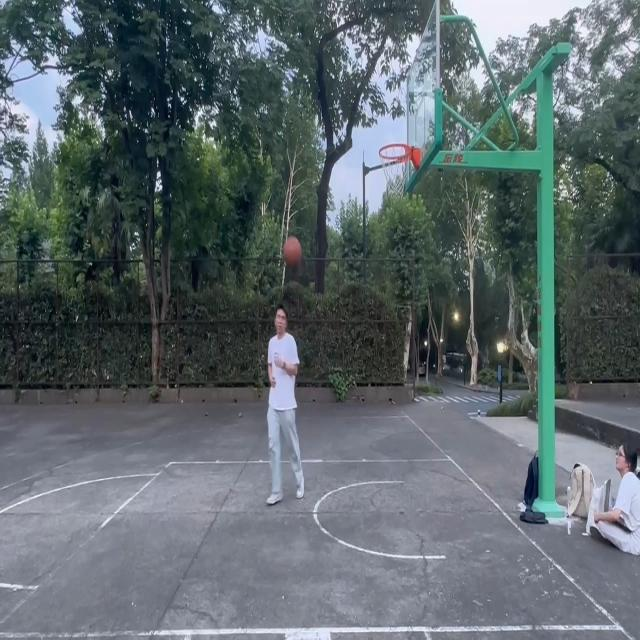basketball: (377, 144, 423, 197)
rim: (284, 237, 301, 265)
